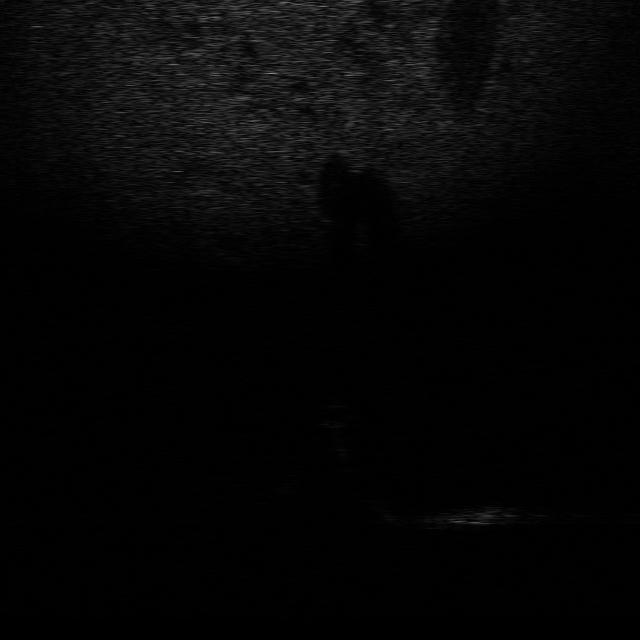ball: (306, 400, 355, 430)
metal bucket: (418, 499, 520, 531)
tyre: (338, 483, 400, 528)
